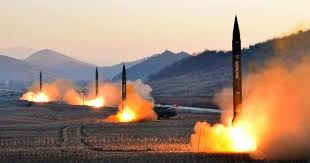ten_lua: (224, 16, 251, 128), (119, 65, 129, 113), (92, 67, 102, 100)
